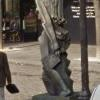Statue: (28, 6, 75, 93)
